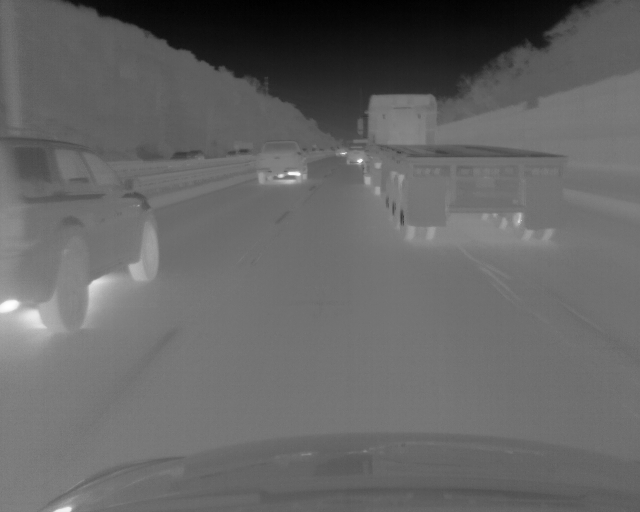car: (357, 93, 570, 243), (1, 139, 160, 338), (255, 140, 309, 183), (170, 149, 207, 159), (347, 147, 363, 165), (226, 150, 250, 157), (336, 147, 346, 156)
